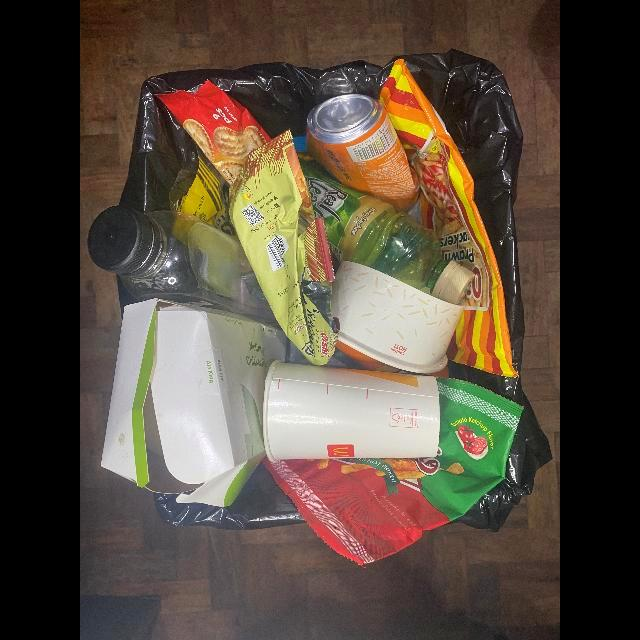aluminum: (306, 93, 420, 212)
cardboard: (101, 297, 288, 507)
food_wrapper: (260, 376, 524, 568), (379, 59, 518, 379), (228, 129, 340, 367), (155, 79, 272, 187), (169, 138, 238, 238)
plastic_bottle: (297, 156, 475, 305), (87, 205, 283, 330)
